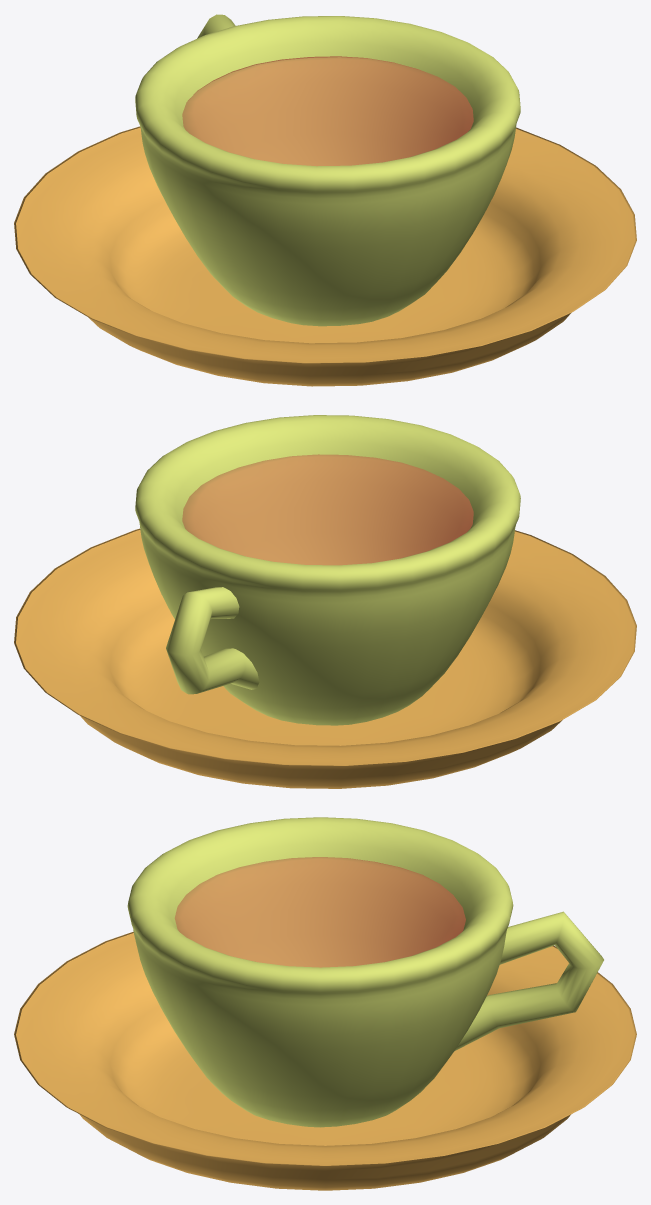
The model's file is TeaCup.fbx.
3 views of the same model, one above another, from view 1: azimuth 30°, elevation 25°; view 2: azimuth 150°, elevation 25°; view 3: azimuth 270°, elevation 25° (orthographic).
Visible parts, largest first — view 1: Cup, Plate, Coffee; view 2: Cup, Plate, Coffee, Plane.023; view 3: Cup, Plate, Coffee, Plane.023.
Part boxes in pixels (x1,y1,x2,y2): Cup: (135,16,520,326); Plate: (14,126,636,386); Coffee: (182,56,473,165); Cup: (135,415,520,725); Plate: (14,528,636,788); Coffee: (182,454,473,564); Plane.023: (166,587,259,694); Cup: (127,817,513,1127); Plate: (14,931,636,1190); Coffee: (175,857,465,967); Plane.023: (455,911,603,1050).
Size of the model in its own units: 135 by 51.18 by 135.
